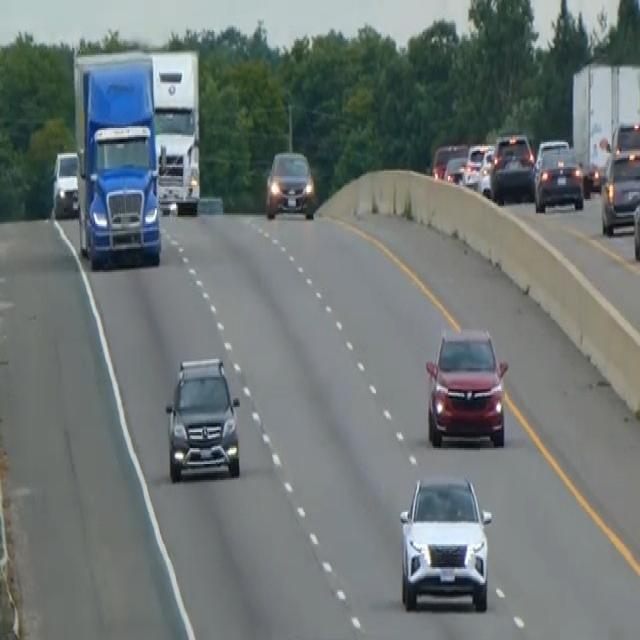car: (424, 322, 509, 448), (533, 142, 584, 214), (264, 148, 316, 218), (600, 146, 639, 234), (489, 133, 535, 203), (51, 148, 79, 218), (431, 140, 467, 182), (462, 140, 490, 188), (476, 146, 495, 197), (442, 153, 467, 185), (632, 174, 639, 263)
jeep: (396, 469, 494, 614), (163, 354, 242, 484)
lorry: (72, 48, 163, 268)
